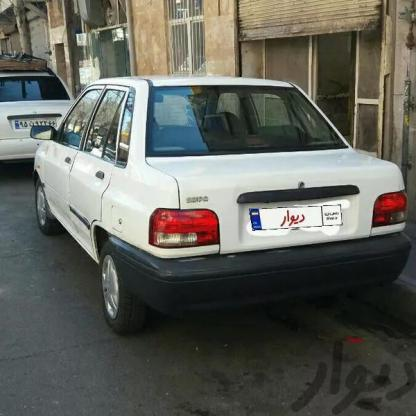Car: (33, 84, 404, 332), (0, 57, 74, 157)
